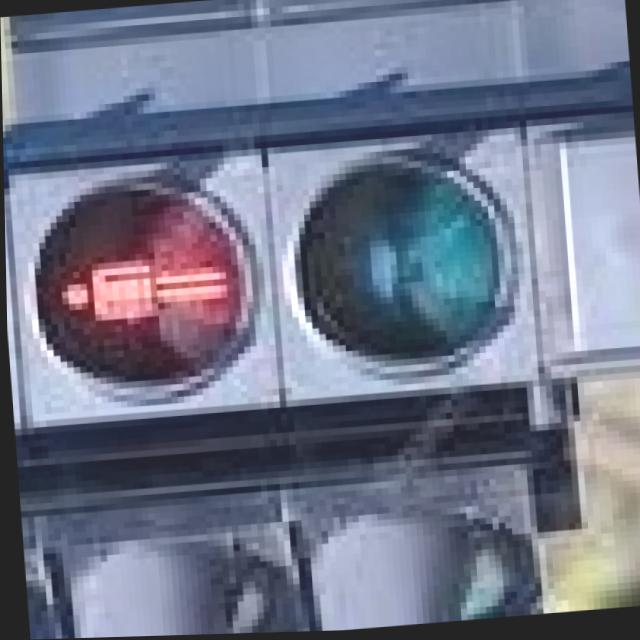red_light: (17, 208, 242, 364)
